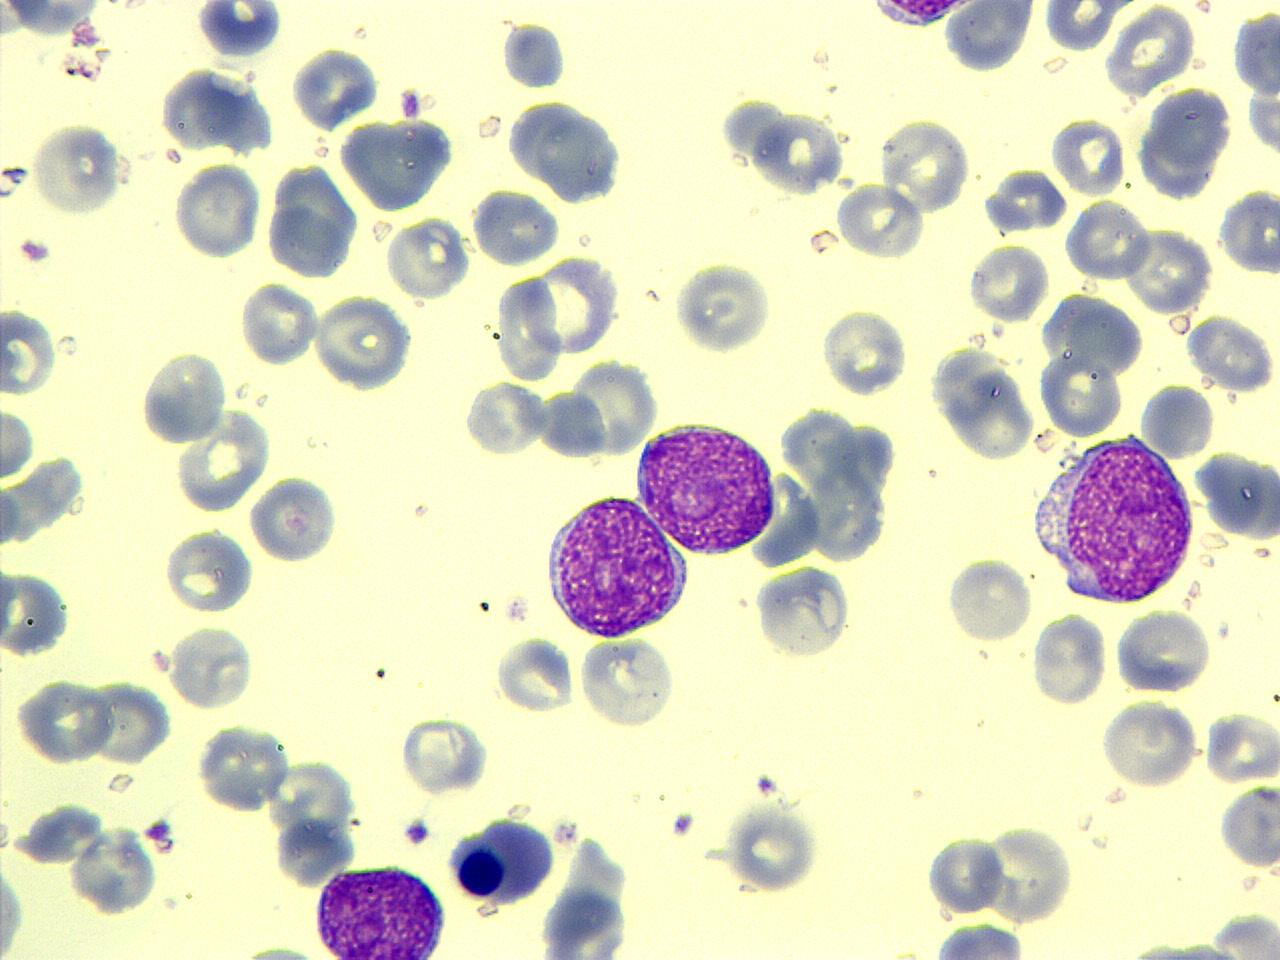Platelets: (498, 16, 570, 91), (193, 2, 284, 57), (1230, 7, 1280, 98), (237, 939, 322, 960), (14, 234, 54, 264), (402, 816, 434, 848), (2, 161, 33, 189), (144, 815, 175, 841)
RBC: (928, 343, 1040, 462), (311, 290, 416, 391), (722, 798, 825, 898), (174, 406, 273, 512), (670, 258, 776, 356), (980, 820, 1076, 926), (752, 562, 854, 661), (193, 720, 295, 816), (577, 634, 678, 730), (879, 114, 973, 217), (29, 118, 124, 216), (1100, 696, 1200, 788), (1102, 4, 1200, 97), (16, 674, 114, 765), (172, 160, 262, 260), (572, 356, 660, 457), (1111, 608, 1213, 694), (753, 104, 848, 196), (138, 349, 228, 446), (944, 552, 1036, 645), (820, 306, 911, 399), (68, 826, 159, 918), (161, 524, 255, 614), (248, 473, 340, 564), (468, 186, 564, 267), (88, 676, 174, 766), (291, 44, 382, 131), (1038, 346, 1124, 438), (1063, 196, 1153, 282), (1184, 312, 1278, 394), (382, 214, 470, 301), (495, 272, 563, 383), (398, 713, 490, 796), (1030, 610, 1108, 707), (169, 622, 253, 710), (836, 182, 926, 261), (239, 278, 318, 368), (926, 831, 1006, 917), (462, 378, 547, 458), (0, 566, 73, 659), (968, 241, 1049, 323), (1050, 114, 1128, 199), (1136, 381, 1215, 460), (1219, 184, 1279, 278), (1204, 709, 1278, 786), (0, 304, 57, 398), (1232, 7, 1280, 97), (1042, 0, 1120, 53), (1210, 910, 1280, 958), (0, 404, 36, 484), (1, 855, 27, 958)
WBC: (0, 0, 384, 206), (1029, 432, 1199, 606), (746, 399, 906, 568), (543, 490, 693, 644), (632, 414, 780, 558), (840, 3, 1066, 80), (309, 860, 450, 960), (535, 828, 641, 960), (504, 94, 628, 206), (928, 340, 1040, 462), (263, 157, 364, 281), (336, 114, 461, 214), (1133, 83, 1237, 203), (156, 62, 280, 158), (447, 813, 560, 910), (70, 826, 160, 918), (468, 186, 565, 268), (936, 1, 1043, 74), (1217, 781, 1279, 874), (910, 919, 1044, 958), (0, 0, 124, 42), (842, 0, 998, 33), (1230, 7, 1280, 99)
